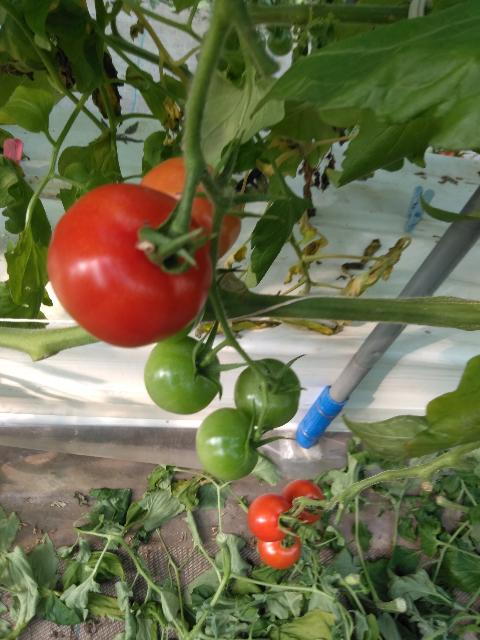l_fully_ripened: (47, 183, 214, 347), (247, 493, 296, 542), (281, 478, 324, 525), (257, 530, 300, 569)
l_green: (143, 336, 220, 415), (234, 358, 301, 430), (196, 407, 259, 481), (156, 303, 206, 344)
l_half_ripened: (139, 157, 241, 262)
